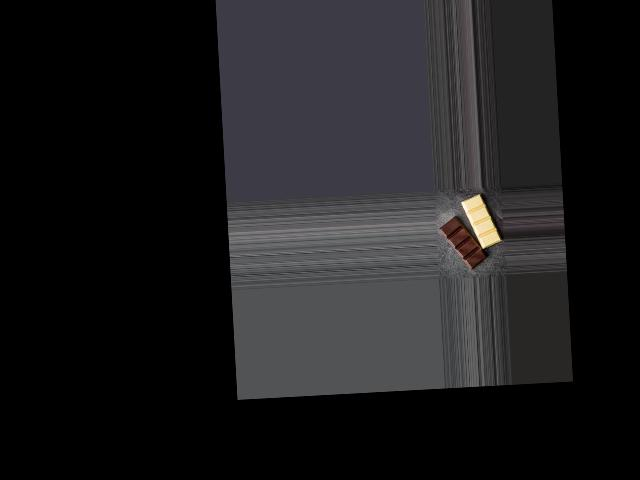chocolate: (438, 189, 502, 270)
